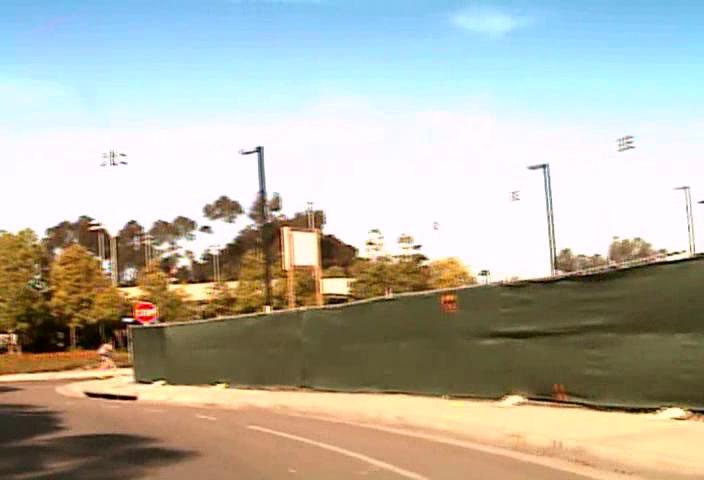stop: (134, 301, 157, 323)
